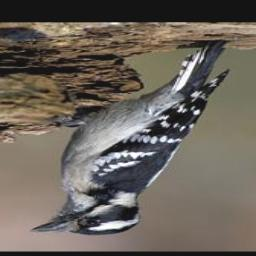Woodpecker: (30, 38, 232, 239)
